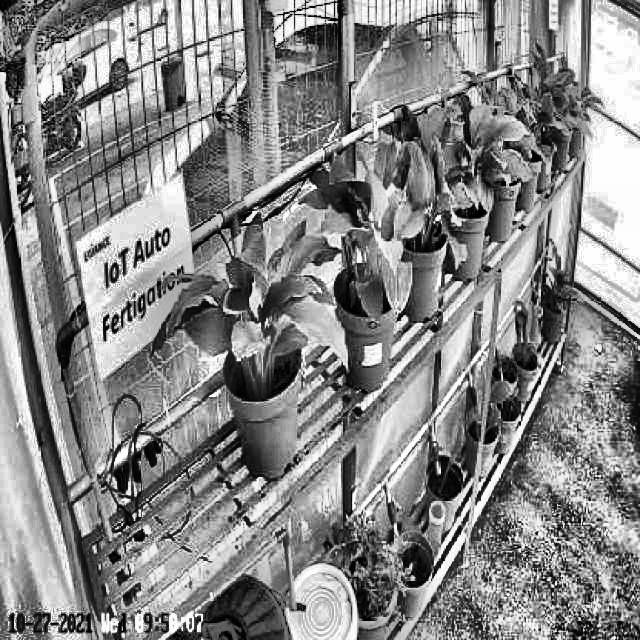plants: (150, 211, 350, 392), (298, 154, 412, 323), (370, 115, 468, 278), (416, 90, 530, 216)
